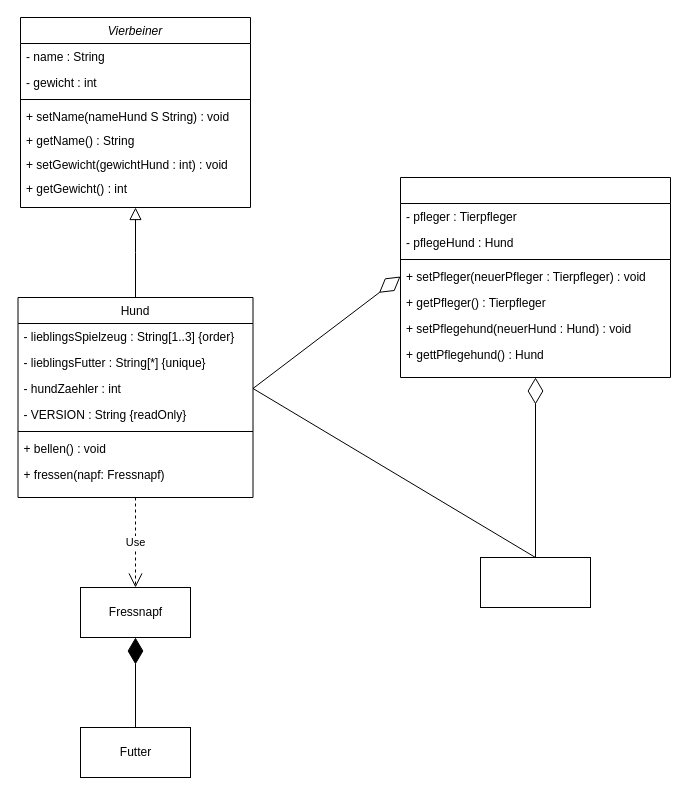
Image size: 688x795. Some labels were removed from this diagram. The shapes that lost their labels are listed below. From the top down, each one's box as (x1, y1, x2, y2) in pixels, then its label:
(400, 176, 670, 378): Tierheim
(480, 556, 590, 608): Tierpfleger
